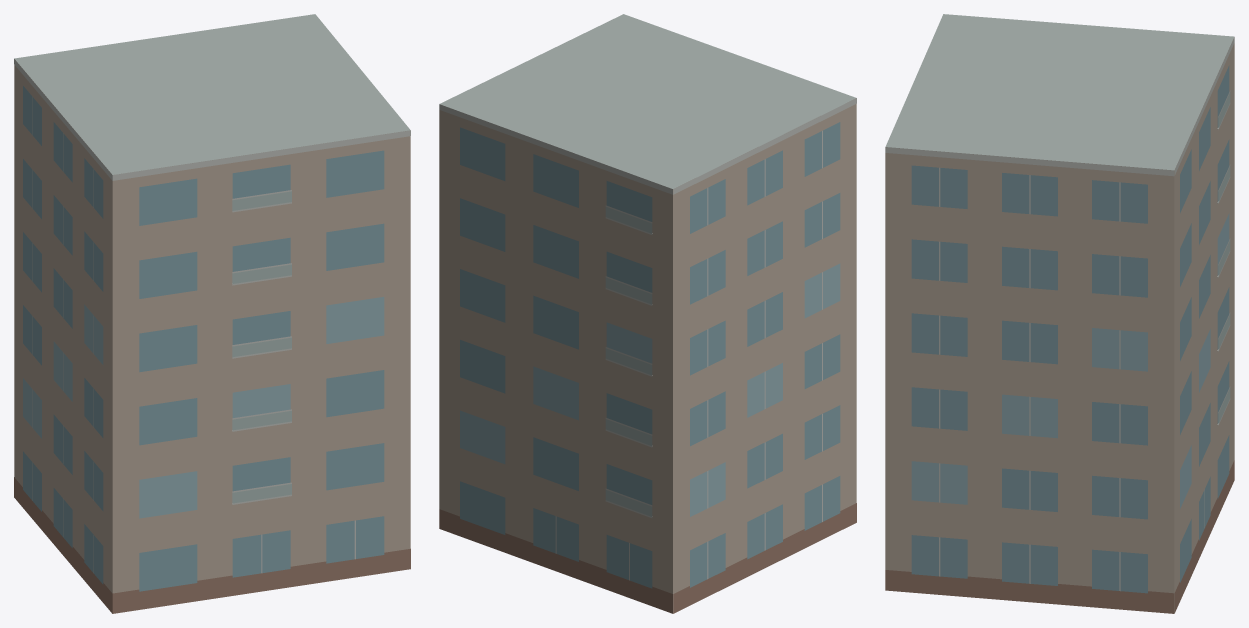
Rendered from survey-upis-32993118.glb.
The picture shows the model from 3 angles, left to right: view 1: azimuth 30°, elevation 25°; view 2: azimuth 150°, elevation 25°; view 3: azimuth 270°, elevation 25°; orthographic projection. The views are drawn at different scales.
Parts seen in each view (by area): view 1: survey-upis-32993118.tmp; view 2: survey-upis-32993118.tmp; view 3: survey-upis-32993118.tmp.
Part boxes in pixels (x1,y1,x2,y2): survey-upis-32993118.tmp: (14,14,410,613); survey-upis-32993118.tmp: (439,14,856,613); survey-upis-32993118.tmp: (885,14,1234,613).
Size of the model in its own units: 13.85 by 18.3 by 13.07.
